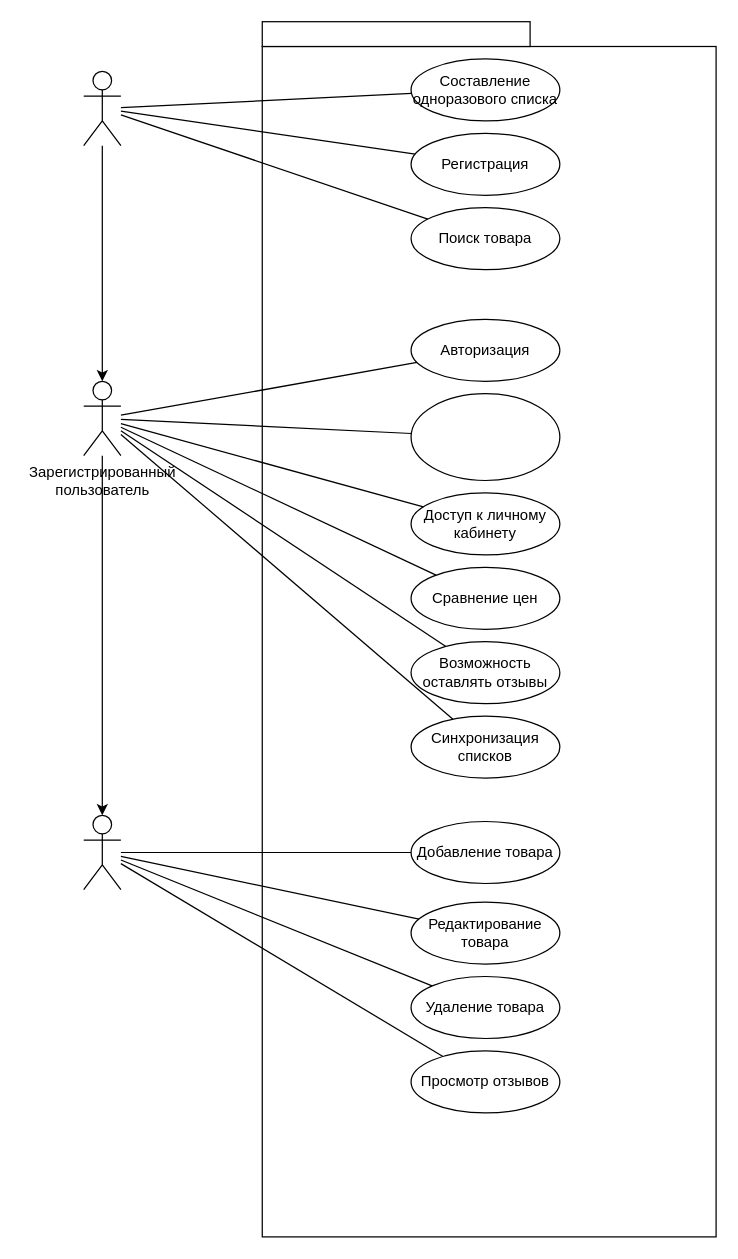
Image size: 738x1259. Some labels were removed from this diagram. The centre of each missing label's shape, as x and y in pixels:
"Администратор" goes at point 101,852.
"Возможности использования сайта" goes at point 395,33.
"Незарегистрированный пользователь" goes at point 101,108.
"Составление нескольких многоразовых списков" goes at point 485,436.
